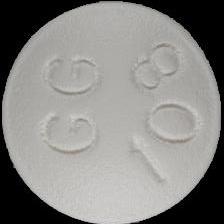67046-541: (0, 0, 224, 224)
